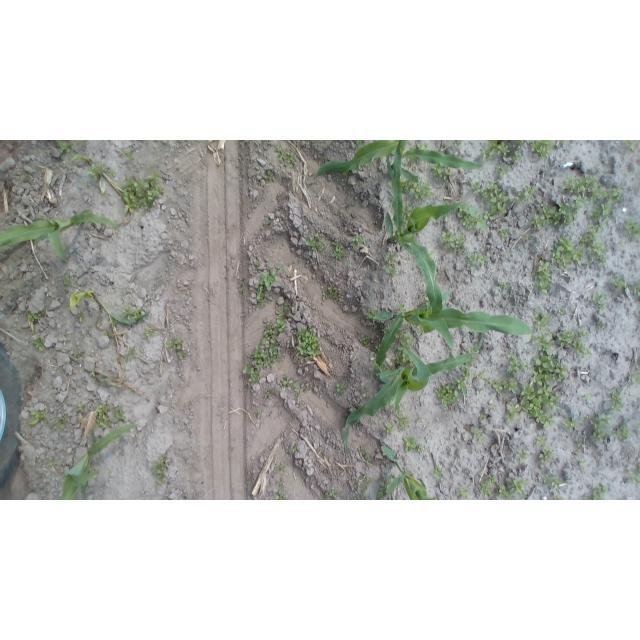Maize: (341, 334, 483, 452), (386, 154, 469, 313), (373, 310, 534, 367), (309, 141, 485, 182), (59, 424, 143, 500), (0, 213, 124, 264), (66, 287, 150, 335), (379, 445, 436, 500)
Weeds: (532, 177, 625, 227), (503, 349, 561, 426), (243, 307, 289, 384), (582, 204, 614, 265), (123, 170, 163, 214), (436, 368, 470, 406), (551, 236, 583, 270), (553, 325, 588, 356), (295, 328, 322, 358), (483, 184, 509, 215), (478, 373, 518, 393), (402, 180, 435, 200), (588, 413, 613, 439), (442, 228, 467, 252), (98, 404, 125, 426), (535, 259, 552, 293), (483, 141, 511, 160), (397, 332, 412, 367), (469, 205, 488, 232), (153, 454, 168, 484), (532, 141, 555, 160), (167, 336, 184, 360), (507, 350, 523, 375), (458, 203, 474, 228), (467, 250, 488, 267), (584, 484, 606, 500), (538, 334, 554, 356), (276, 147, 295, 165), (304, 234, 324, 251), (378, 476, 391, 501), (517, 185, 535, 203), (544, 472, 561, 489), (614, 423, 631, 440), (533, 310, 550, 327), (323, 285, 340, 302), (395, 413, 411, 431), (260, 271, 276, 289), (596, 292, 609, 314), (386, 251, 397, 277), (29, 410, 45, 427), (611, 275, 629, 290), (625, 219, 639, 238), (435, 163, 454, 177), (510, 478, 525, 495), (332, 243, 344, 262), (256, 285, 268, 304), (403, 437, 418, 452), (537, 447, 551, 463), (480, 481, 493, 497), (88, 164, 103, 177), (470, 426, 483, 441), (263, 168, 275, 184), (628, 371, 640, 387), (563, 419, 578, 431), (624, 141, 640, 152), (516, 451, 529, 464), (56, 141, 70, 153), (33, 337, 45, 351), (353, 233, 364, 248), (383, 422, 396, 434), (457, 486, 469, 499), (471, 180, 482, 194), (497, 164, 508, 178), (498, 227, 509, 241), (612, 391, 623, 404), (280, 377, 293, 388), (324, 488, 337, 498), (276, 461, 287, 472), (499, 487, 510, 498), (535, 435, 546, 446), (487, 473, 498, 484), (632, 283, 640, 297), (28, 313, 40, 322), (434, 465, 443, 477), (119, 149, 134, 156), (336, 383, 345, 394), (277, 476, 285, 488), (484, 211, 493, 221), (58, 418, 66, 429), (265, 390, 274, 399), (373, 341, 380, 352), (77, 404, 85, 413), (498, 284, 508, 291), (555, 141, 565, 148), (275, 494, 286, 500), (293, 387, 301, 395), (290, 444, 297, 453), (48, 456, 54, 466), (553, 495, 565, 500), (559, 309, 566, 316), (362, 339, 369, 346), (584, 394, 590, 401), (578, 441, 583, 448), (478, 413, 484, 418)
